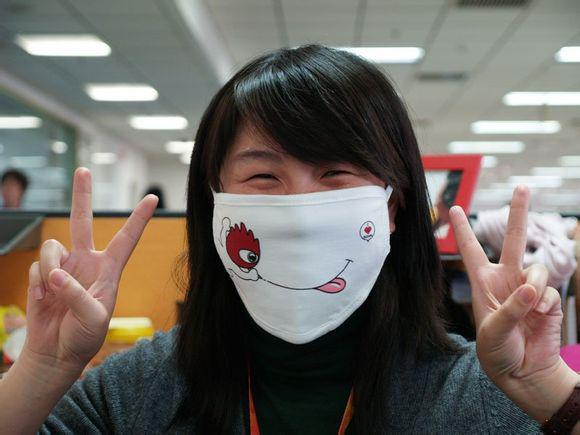OK: (227, 147, 401, 321)
